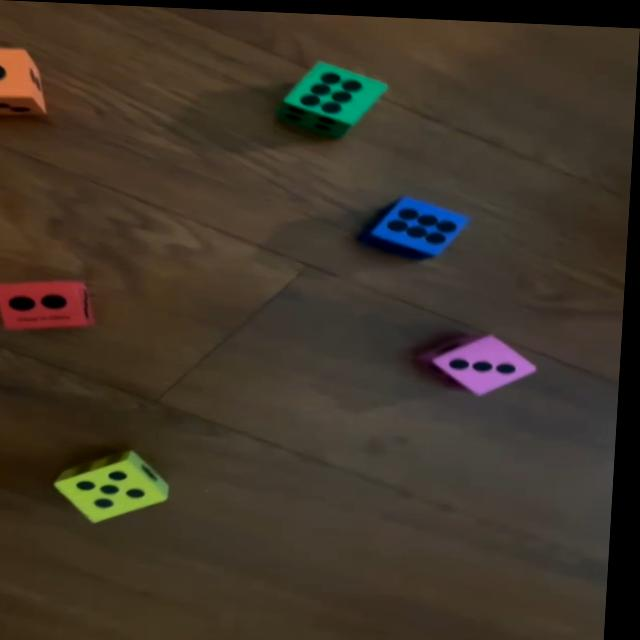blue_block: (363, 188, 474, 258)
red_block: (0, 277, 99, 333)
